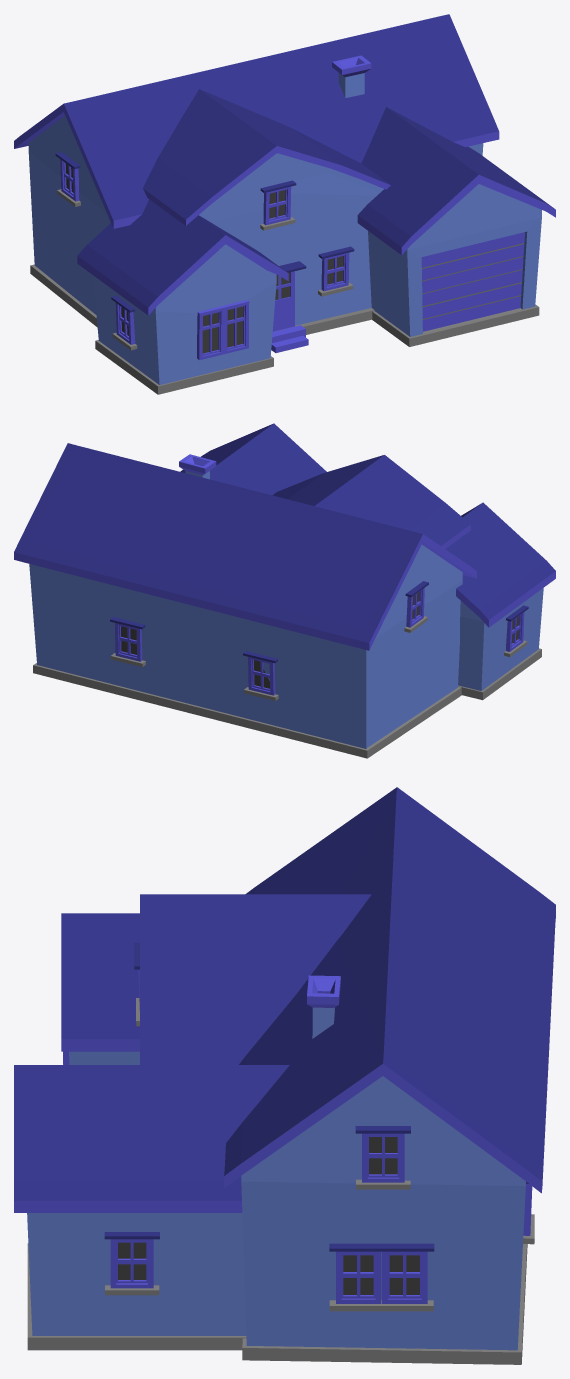
File: HOUSE_1.fbx
The picture shows the model from 3 angles, top to bottom: view 1: azimuth 30°, elevation 25°; view 2: azimuth 150°, elevation 25°; view 3: azimuth 270°, elevation 25°; orthographic projection. The views are drawn at different scales.
Parts seen in each view (by area): view 1: House2; view 2: House2; view 3: House2.
Boxes of the visible parts, x1,y1,x2,y2 form: House2: [14, 14, 555, 394]; House2: [14, 423, 555, 758]; House2: [14, 787, 555, 1364].
Size of the model in its own units: 8.07 by 3.87 by 6.17.
